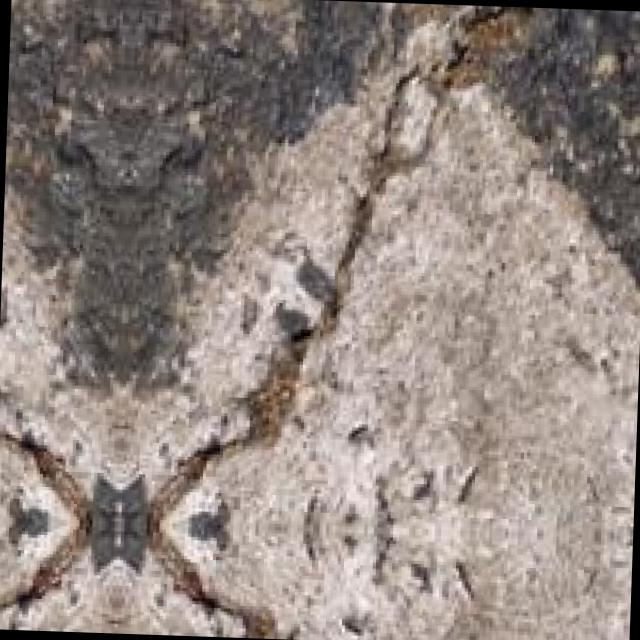crack: (177, 5, 500, 572)
